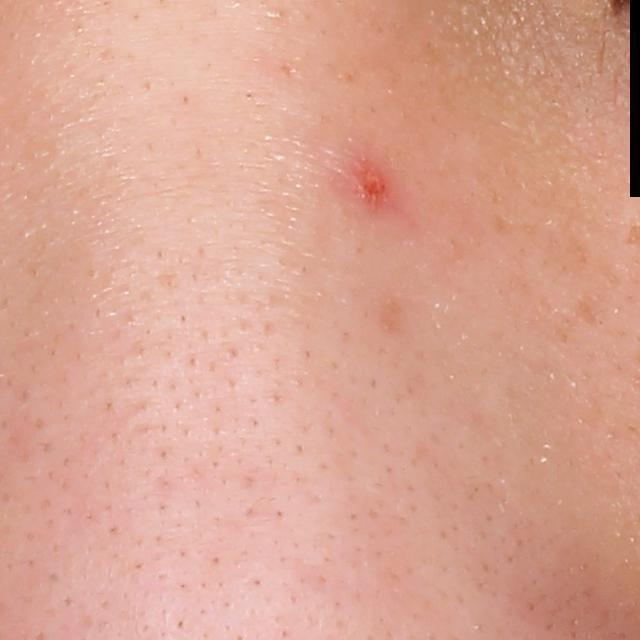papule: (350, 159, 400, 213)
